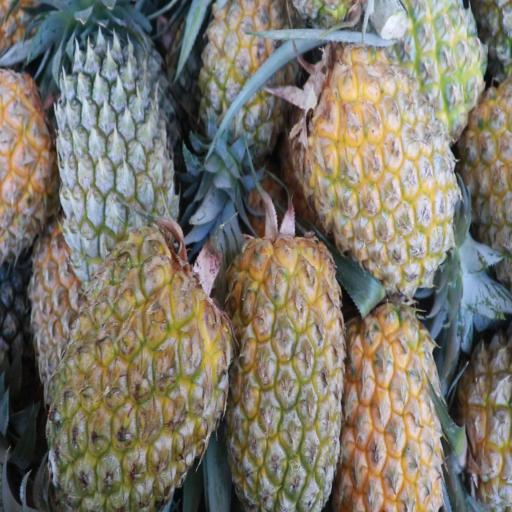------------------------------: (200, 2, 292, 152), (32, 220, 89, 388)
Pineapple - v8 v1: (48, 220, 226, 512), (309, 44, 448, 282), (230, 239, 344, 507), (347, 294, 437, 508), (0, 56, 55, 234)
